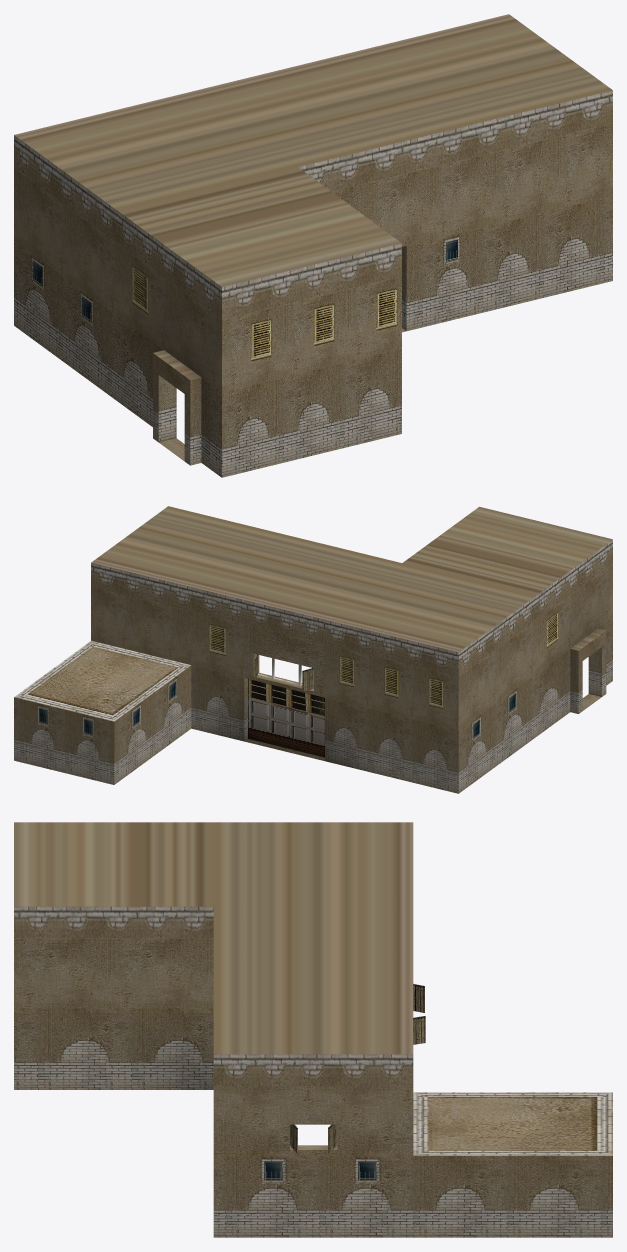
The model's file is M2Zone2_EnterableShed1.glb.
The picture shows the model from 3 angles, top to bottom: view 1: azimuth 30°, elevation 25°; view 2: azimuth 150°, elevation 25°; view 3: azimuth 270°, elevation 25°; orthographic projection. The views are drawn at different scales.
Parts seen in each view (by area): view 1: M2ZONE2_ENTERABLESHED1; view 2: M2ZONE2_ENTERABLESHED1; view 3: M2ZONE2_ENTERABLESHED1.
Part boxes in pixels (x1=…): M2ZONE2_ENTERABLESHED1: x1=14, y1=14, x2=612, y2=477; M2ZONE2_ENTERABLESHED1: x1=14, y1=506, x2=612, y2=793; M2ZONE2_ENTERABLESHED1: x1=14, y1=822, x2=612, y2=1237.
Bounding box in the file's own units: 22.82 × 8.1 × 24.
Materials: 8 (8 with a texture image).
